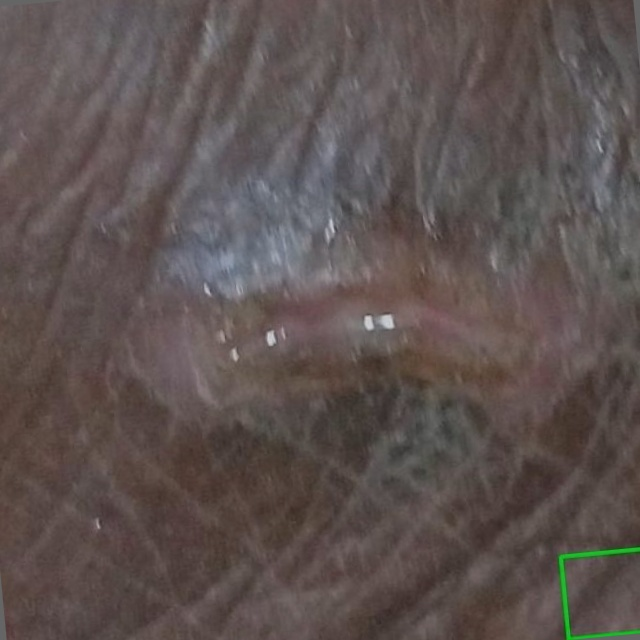Eczema: (559, 549, 639, 639)
